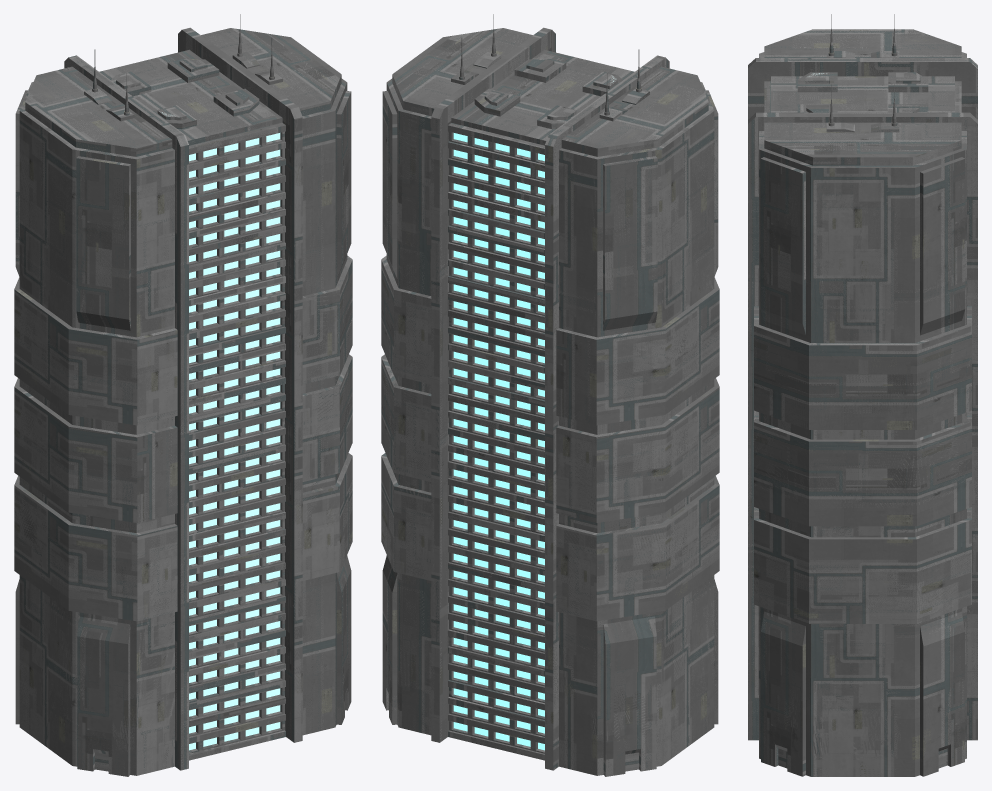
The model's file is Building10.fbx.
3 views of the same model, side by side, from view 1: azimuth 30°, elevation 25°; view 2: azimuth 150°, elevation 25°; view 3: azimuth 270°, elevation 25° (orthographic).
Parts seen in each view (by area): view 1: Building_vi_8; view 2: Building_vi_8; view 3: Building_vi_8.
Part boxes in pixels (x1=…): Building_vi_8: x1=14, y1=14, x2=352, y2=776; Building_vi_8: x1=381, y1=14, x2=719, y2=776; Building_vi_8: x1=748, y1=14, x2=977, y2=776.
Bounding box in the file's own units: 29.05 × 65.48 × 20.62.
2 materials, 1 textured.
